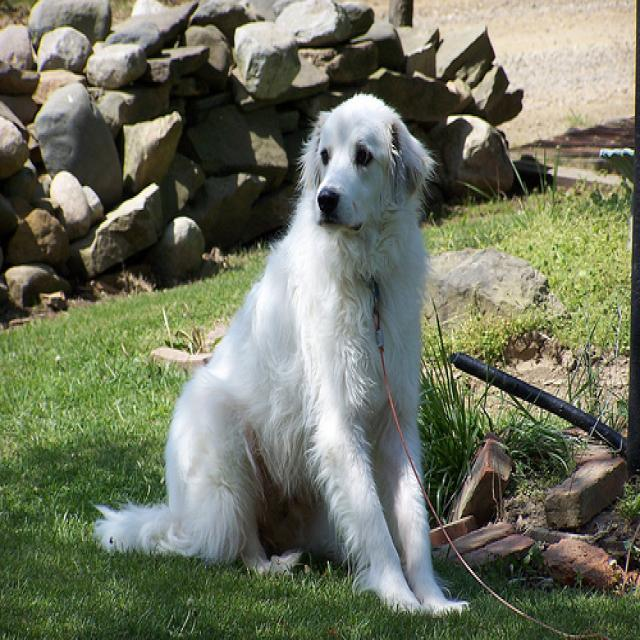dog-great_pyrenees: (82, 80, 472, 621)
